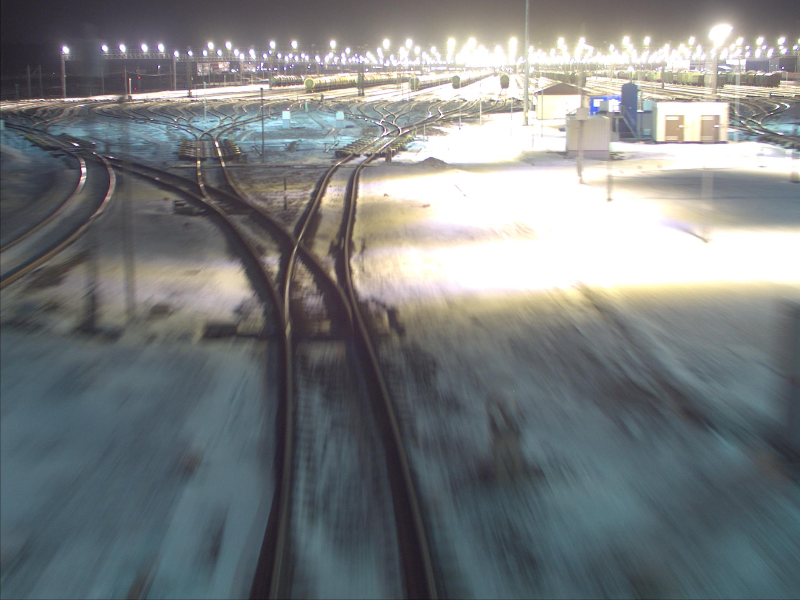right: (275, 288, 372, 332)
